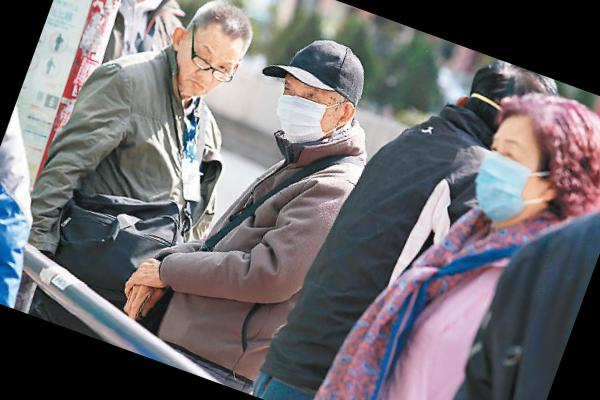with_mask: (463, 130, 558, 237), (265, 72, 347, 153)
without_mask: (164, 33, 241, 108)
